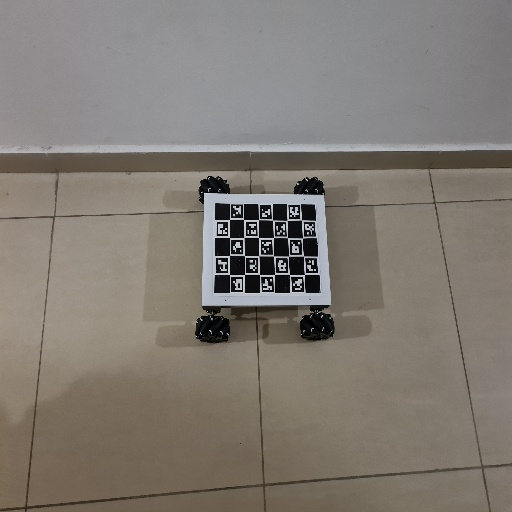Omniwheel: (194, 175, 336, 346)
